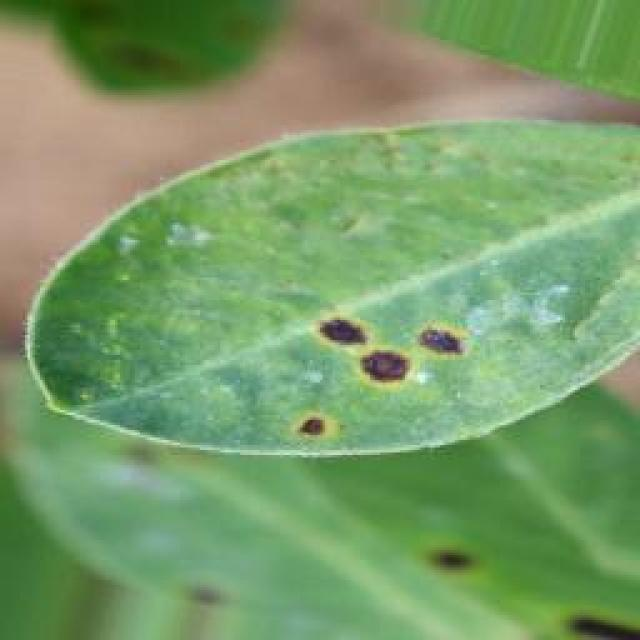Sigatoka: (293, 271, 459, 398), (230, 393, 374, 466), (544, 584, 640, 640), (428, 514, 496, 578)
